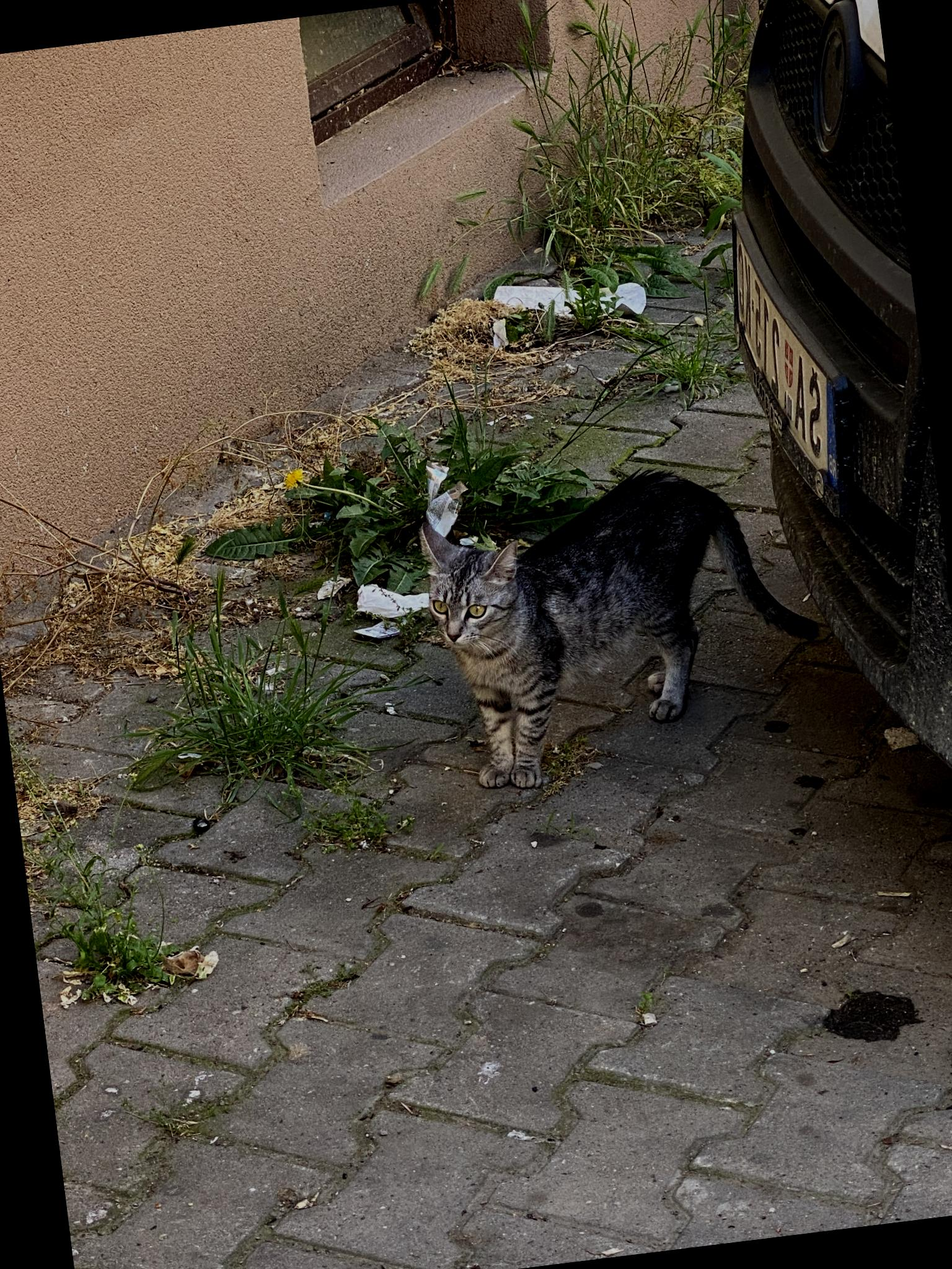macka: (412, 452, 836, 801)
